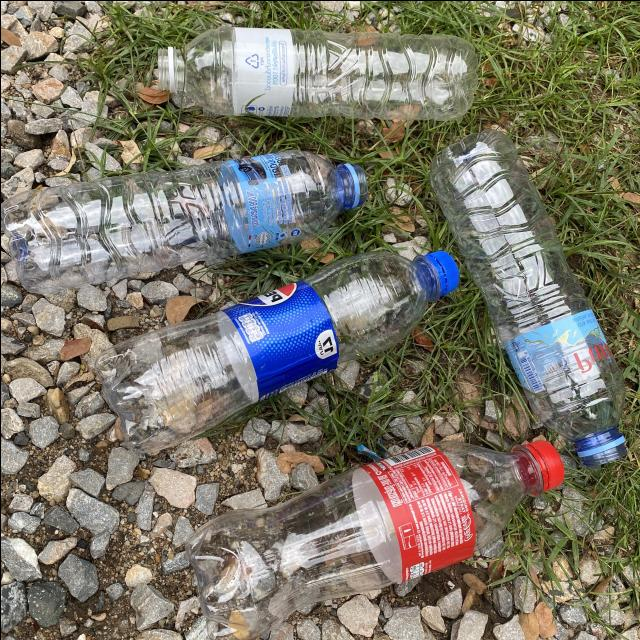plastik: (186, 441, 563, 640), (95, 250, 458, 452), (429, 130, 626, 465), (0, 150, 367, 292), (158, 25, 477, 119)
